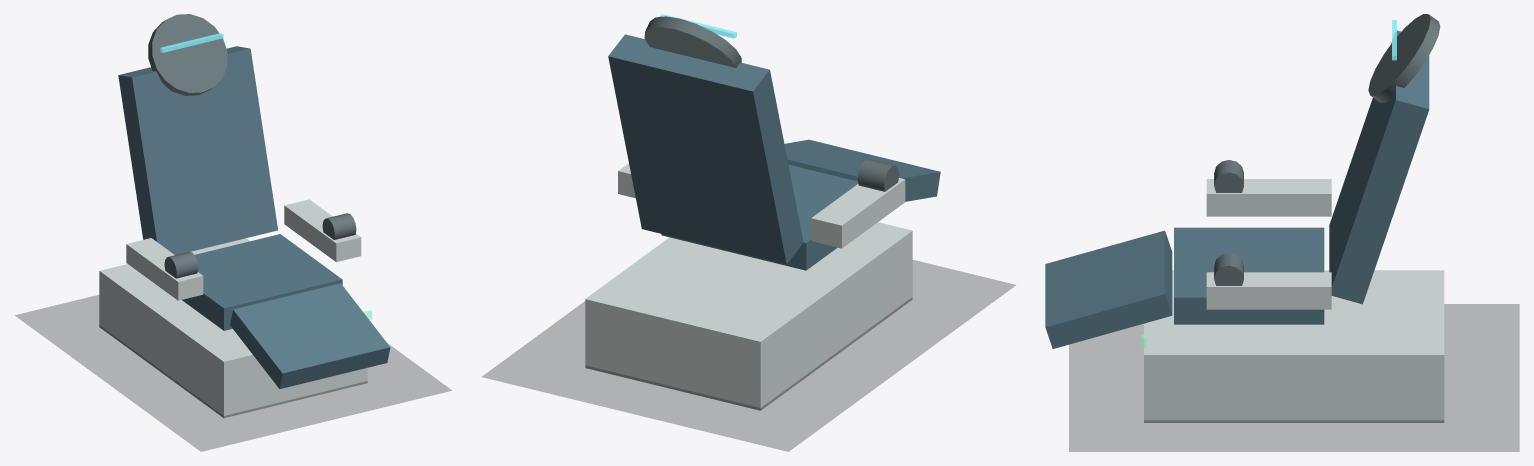
Rendered from hp_room_rm_clinic_therapy_chair.glb.
3 views of the same model, side by side, from view 1: azimuth 30°, elevation 25°; view 2: azimuth 150°, elevation 25°; view 3: azimuth 270°, elevation 25° (orthographic). The views are drawn at different scales.
Parts seen in each view (by area): view 1: back_rest, contact_shadow, chair_base, leg_rest, seat_pan, halo_ring, arm_right, arm_left, wrist_clamp_r, wrist_clamp_l; view 2: chair_base, back_rest, contact_shadow, arm_left, leg_rest, seat_pan, halo_ring, wrist_clamp_l; view 3: chair_base, contact_shadow, back_rest, leg_rest, seat_pan, arm_left, arm_right, halo_ring, wrist_clamp_l, wrist_clamp_r.
Part boxes in pixels (x1=…): back_rest: x1=118, y1=46, x2=277, y2=254; contact_shadow: x1=15, y1=295, x2=451, y2=451; chair_base: x1=99, y1=238, x2=367, y2=418; leg_rest: x1=230, y1=283, x2=390, y2=388; seat_pan: x1=182, y1=234, x2=342, y2=330; halo_ring: x1=148, y1=14, x2=227, y2=95; arm_right: x1=284, y1=199, x2=361, y2=262; arm_left: x1=126, y1=238, x2=203, y2=300; wrist_clamp_r: x1=322, y1=213, x2=356, y2=239; wrist_clamp_l: x1=164, y1=252, x2=198, y2=278; chair_base: x1=585, y1=222, x2=912, y2=410; back_rest: x1=608, y1=34, x2=803, y2=264; contact_shadow: x1=482, y1=260, x2=1015, y2=451; arm_left: x1=811, y1=178, x2=905, y2=248; leg_rest: x1=784, y1=139, x2=940, y2=201; seat_pan: x1=661, y1=165, x2=858, y2=270; halo_ring: x1=644, y1=16, x2=741, y2=67; wrist_clamp_l: x1=857, y1=159, x2=899, y2=191; chair_base: x1=1144, y1=270, x2=1444, y2=422; contact_shadow: x1=1069, y1=304, x2=1519, y2=451; back_rest: x1=1329, y1=30, x2=1429, y2=304; leg_rest: x1=1045, y1=230, x2=1172, y2=348; seat_pan: x1=1174, y1=227, x2=1324, y2=324; arm_left: x1=1206, y1=179, x2=1331, y2=216; arm_right: x1=1206, y1=272, x2=1331, y2=309; halo_ring: x1=1368, y1=14, x2=1440, y2=102; wrist_clamp_l: x1=1214, y1=160, x2=1243, y2=192; wrist_clamp_r: x1=1214, y1=253, x2=1243, y2=285.
Size of the model in its own units: 1.4 by 1.59 by 1.89.
